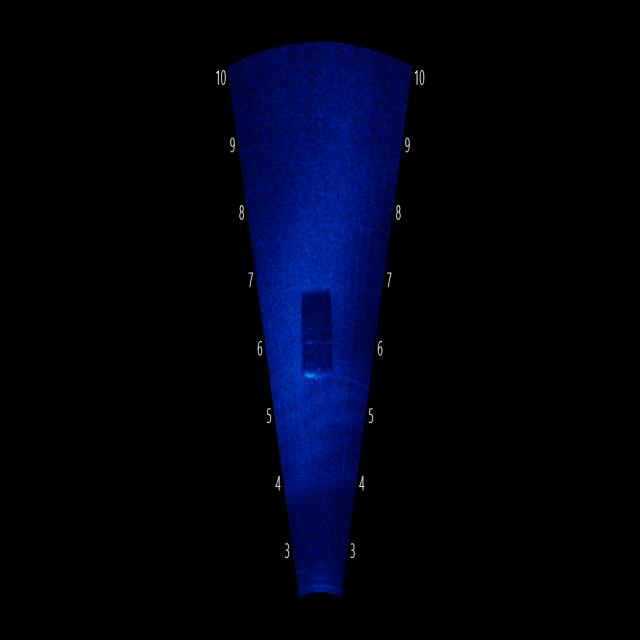square: (289, 279, 345, 406)
